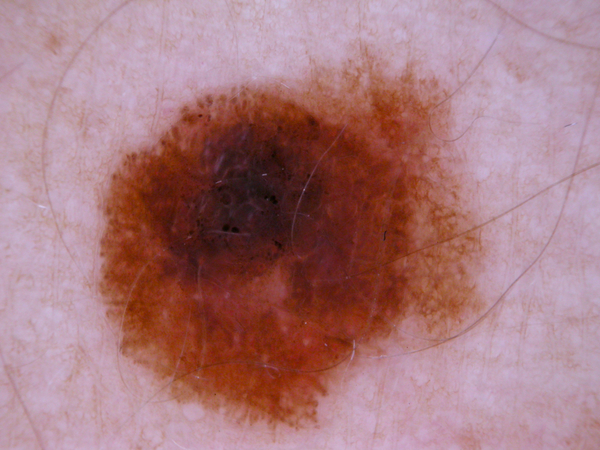Detected Lesion: (87, 69, 463, 433)
